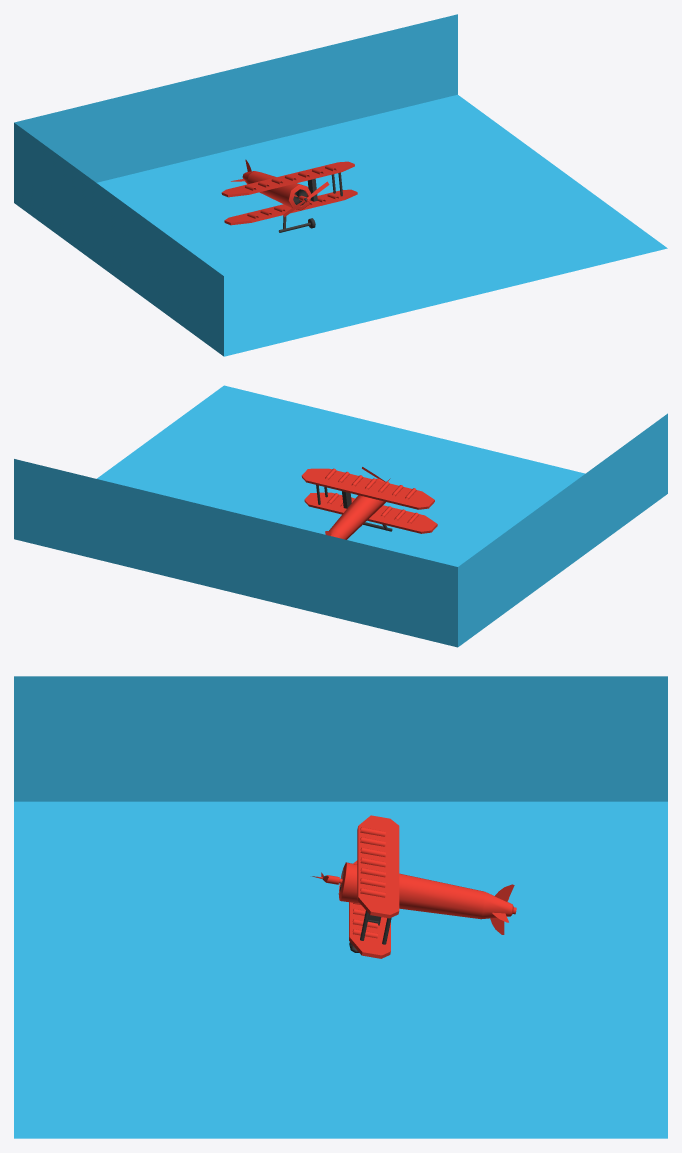
The model's file is 小飞机.glb.
3 renders of one model, top to bottom at view 1: azimuth 30°, elevation 25°; view 2: azimuth 150°, elevation 25°; view 3: azimuth 270°, elevation 25°, orthographic. The views are drawn at different scales.
Visible parts, largest first — view 1: 平面.006, 平面.001, 圆环, 圆环.003; view 2: 平面.006, 平面.001, 圆环, 圆环.003; view 3: 平面.006, 平面.001, 圆环, 圆环.003.
Boxes of the visible parts, x1,y1,x2,y2 form: 平面.006: [14, 14, 667, 356]; 平面.001: [221, 161, 357, 225]; 圆环: [242, 171, 311, 210]; 圆环.003: [245, 165, 338, 218]; 平面.006: [14, 385, 667, 647]; 平面.001: [301, 468, 437, 533]; 圆环: [329, 478, 390, 539]; 圆环.003: [325, 468, 418, 523]; 平面.006: [14, 676, 667, 1138]; 平面.001: [349, 815, 399, 958]; 圆环: [312, 862, 516, 919]; 圆环.003: [352, 827, 385, 938].
Size of the model in its own units: 38.17 by 6.64 by 31.28.
